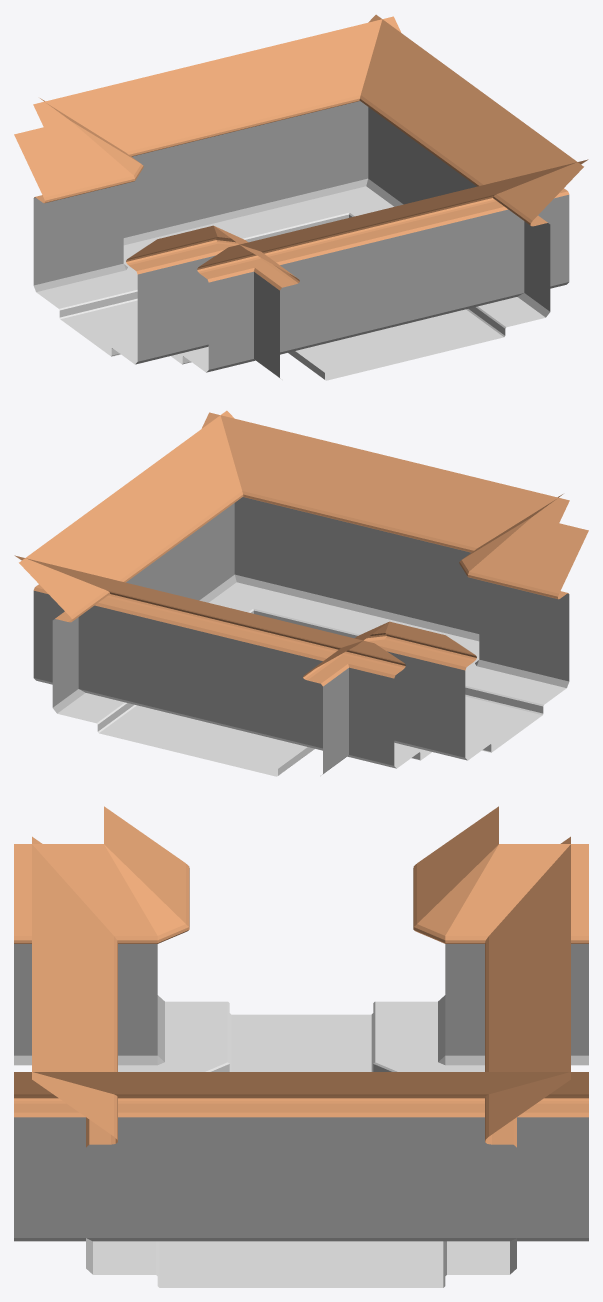
The model's file is SegmentFinal.fbx.
3 views of the same model, one above another, from view 1: azimuth 30°, elevation 25°; view 2: azimuth 150°, elevation 25°; view 3: azimuth 270°, elevation 25° (orthographic). The views are drawn at different scales.
Parts seen in each view (by area): view 1: Plane; view 2: Plane; view 3: Plane.
Part boxes in pixels (x1,y1,x2,y2): Plane: (14,14,588,380); Plane: (14,410,588,776); Plane: (14,806,588,1287).
Size of the model in its own units: 900 by 320 by 800.
